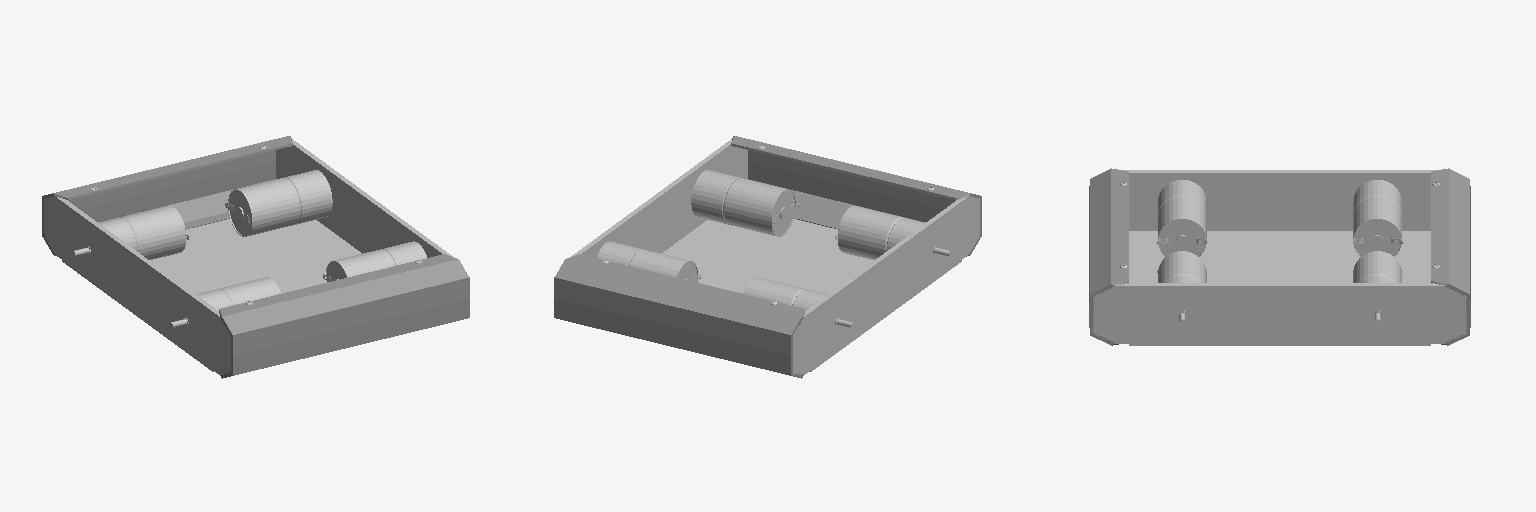
The model's file is rover2.obj.
The picture shows the model from 3 angles: view 1: azimuth 30°, elevation 25°; view 2: azimuth 150°, elevation 25°; view 3: azimuth 270°, elevation 25°; orthographic projection.
Visible parts, largest first — view 1: Cube.003_Cube.005, Cube.005_Cube.007, Cube_Cube.001, Cube.004_Cube.006, Cube.006_Cube.000, Cylinder.004_Cylinder.002, Cylinder, Cylinder.007, Cylinder.003_Cylinder.006; view 2: Cube.004_Cube.006, Cube.005_Cube.007, Cube_Cube.001, Cube.003_Cube.005, Cube.006_Cube.000, Cylinder.007, Cylinder.003_Cylinder.006, Cylinder.004_Cylinder.002, Cylinder; view 3: Cube.006_Cube.000, Cube.005_Cube.007, Cube_Cube.001, Cube.004_Cube.006, Cube.003_Cube.005, Cylinder, Cylinder.003_Cylinder.006, Cylinder.007, Cylinder.004_Cylinder.002.
Boxes of the visible parts, x1=… form: Cube.003_Cube.005: x1=219, y1=254, x2=469, y2=378; Cube.005_Cube.007: x1=44, y1=197, x2=230, y2=374; Cube_Cube.001: x1=62, y1=219, x2=361, y2=371; Cube.004_Cube.006: x1=42, y1=136, x2=292, y2=256; Cube.006_Cube.000: x1=276, y1=139, x2=452, y2=257; Cylinder.004_Cylinder.002: x1=225, y1=170, x2=332, y2=236; Cylinder: x1=86, y1=206, x2=188, y2=259; Cylinder.007: x1=323, y1=241, x2=426, y2=282; Cylinder.003_Cylinder.006: x1=184, y1=277, x2=280, y2=325; Cube.004_Cube.006: x1=554, y1=254, x2=804, y2=378; Cube.005_Cube.007: x1=793, y1=197, x2=979, y2=374; Cube_Cube.001: x1=662, y1=219, x2=961, y2=371; Cube.003_Cube.005: x1=731, y1=136, x2=981, y2=256; Cube.006_Cube.000: x1=571, y1=139, x2=747, y2=257; Cylinder.007: x1=691, y1=170, x2=798, y2=236; Cylinder.003_Cylinder.006: x1=835, y1=206, x2=937, y2=259; Cylinder.004_Cylinder.002: x1=597, y1=241, x2=700, y2=282; Cylinder: x1=743, y1=277, x2=839, y2=325; Cube.006_Cube.000: x1=1093, y1=283, x2=1466, y2=343; Cube.005_Cube.007: x1=1124, y1=170, x2=1435, y2=230; Cube_Cube.001: x1=1129, y1=231, x2=1430, y2=345; Cube.004_Cube.006: x1=1431, y1=168, x2=1470, y2=345; Cube.003_Cube.005: x1=1089, y1=168, x2=1128, y2=345; Cylinder: x1=1353, y1=180, x2=1402, y2=256; Cylinder.003_Cylinder.006: x1=1157, y1=180, x2=1206, y2=256; Cylinder.007: x1=1157, y1=251, x2=1206, y2=317; Cylinder.004_Cylinder.002: x1=1353, y1=251, x2=1402, y2=317.
Bounding box in the file's own units: 1.58 × 0.3619 × 1.95.